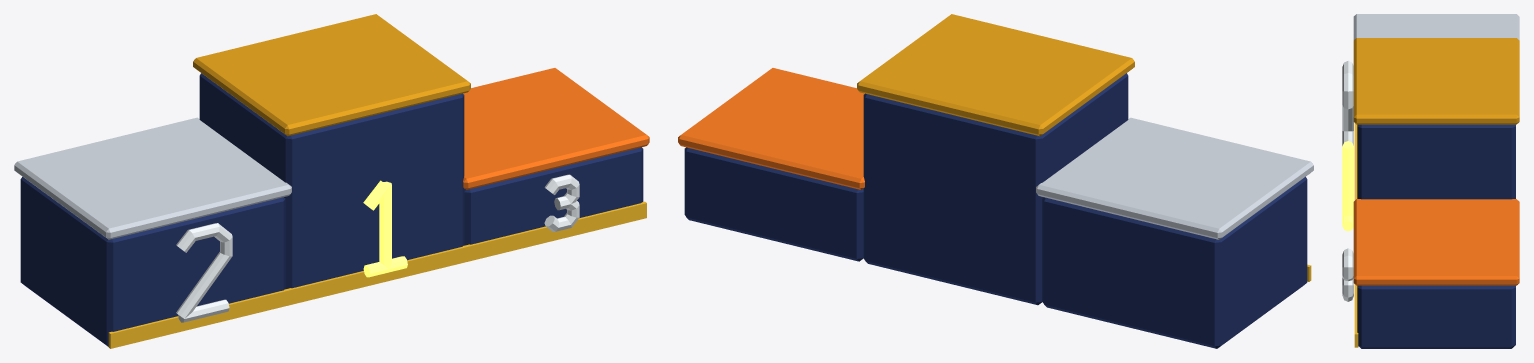
Rendered from Podium.fbx.
The picture shows the model from 3 angles, left to right: view 1: azimuth 30°, elevation 25°; view 2: azimuth 150°, elevation 25°; view 3: azimuth 270°, elevation 25°; orthographic projection. The views are drawn at different scales.
Visible parts, largest first — view 1: Podium, Neon_White, Neon_Yellow; view 2: Podium; view 3: Podium, Neon_White, Neon_Yellow.
Boxes of the visible parts, box(x1,y1,x2,y2) form: Podium: box(14, 14, 649, 348); Neon_White: box(176, 174, 579, 322); Neon_Yellow: box(363, 180, 407, 277); Podium: box(678, 14, 1313, 348); Podium: box(1353, 14, 1519, 348); Neon_White: box(1342, 60, 1353, 301); Neon_Yellow: box(1342, 141, 1353, 231).
Bounding box in the file's own units: 15.2 × 4.9 × 4.91.
3 materials, 1 textured.
